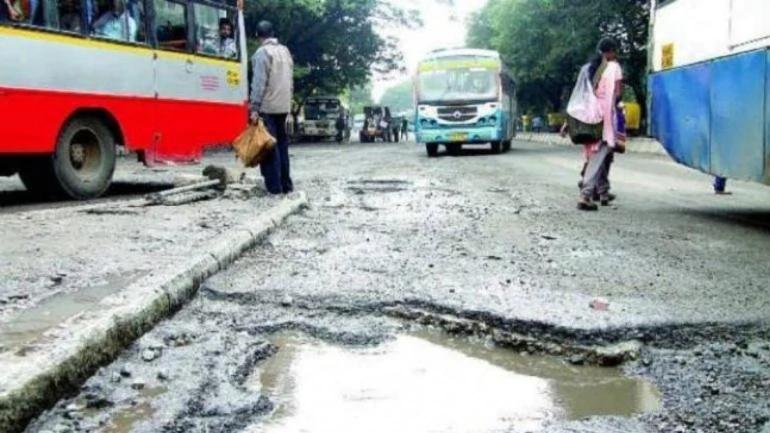pothole: (0, 271, 728, 433), (333, 186, 416, 200), (343, 176, 415, 187)
